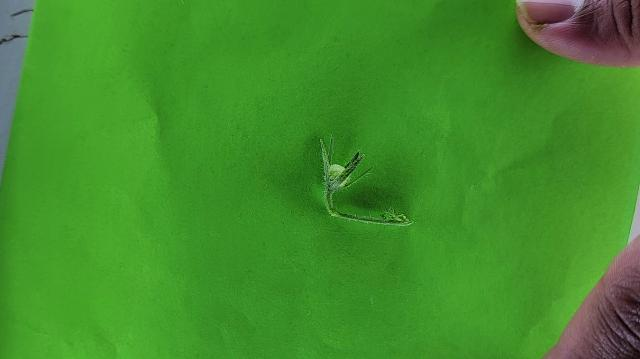Fruit Bud: (322, 135, 370, 196)
